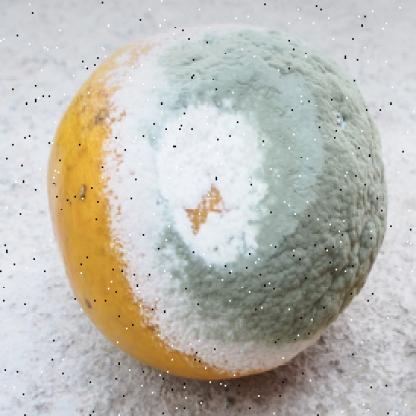rotten: (52, 26, 388, 381)
